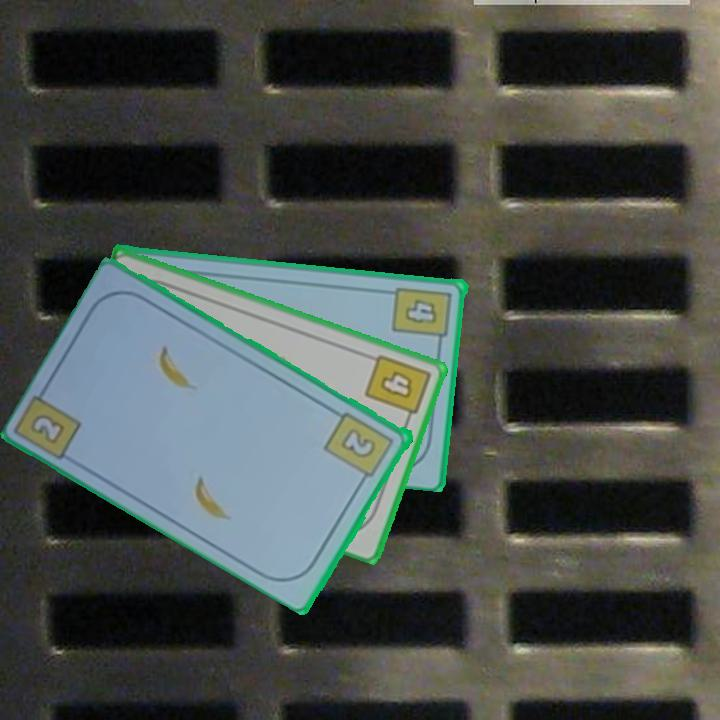2b: (321, 408, 398, 487), (27, 410, 69, 447)
4b: (361, 350, 434, 427), (390, 283, 455, 350)
